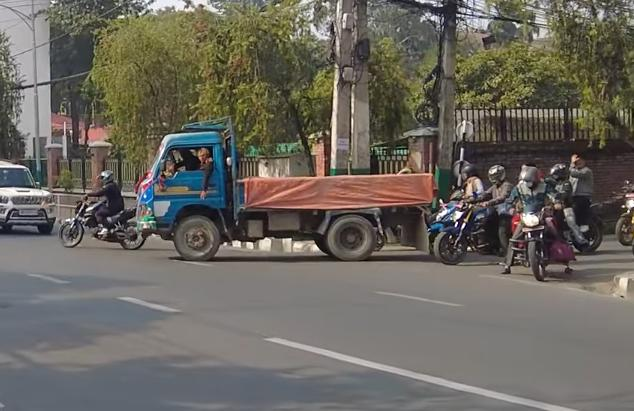bike: (427, 176, 510, 268), (508, 173, 569, 296), (58, 176, 150, 253), (612, 168, 634, 250)
car: (0, 154, 62, 244)
mini_truck: (136, 110, 434, 275)
